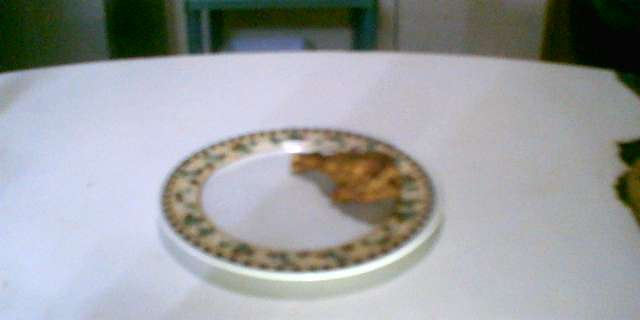chicken: (292, 129, 405, 214)
